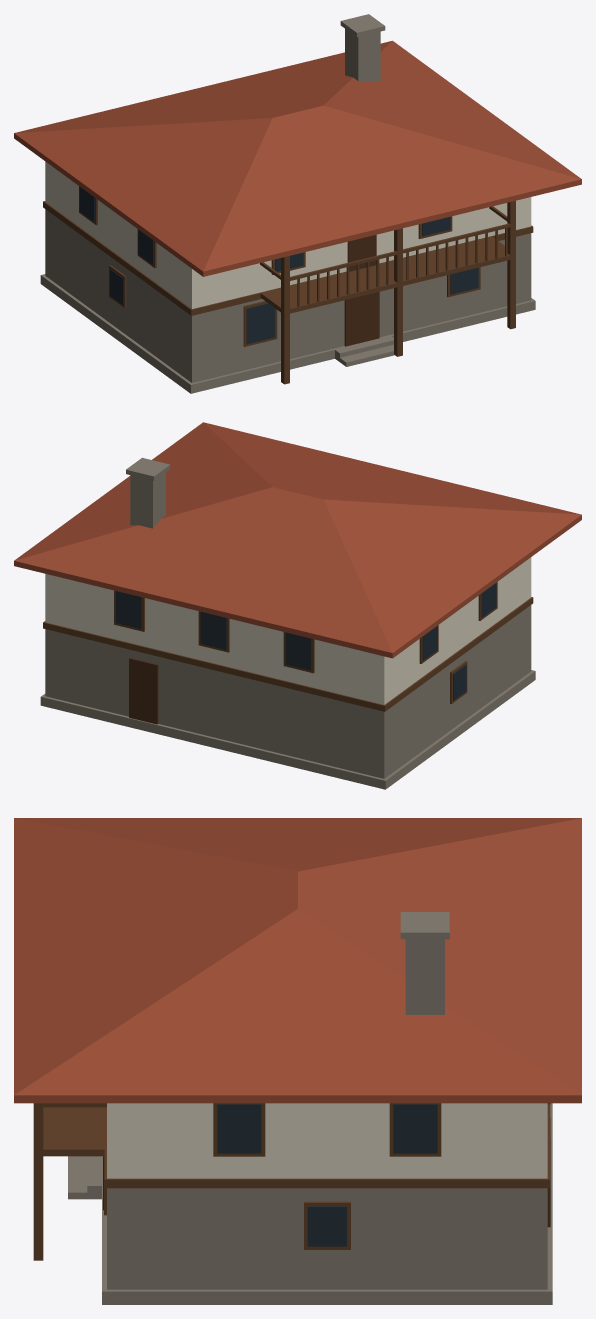
The model's file is dk-house.glb.
3 renders of one model, top to bottom at view 1: azimuth 30°, elevation 25°; view 2: azimuth 150°, elevation 25°; view 3: azimuth 270°, elevation 25°, orthographic. The views are drawn at different scales.
Visible parts, largest first — view 1: Roof, GroundFloor, UpperFloor, BalconyDeck, Plinth, FloorBand, Door, Chimney, BalconyPost0, BalconyRail, BalconyPost1, BalconyPost2 (+6 smaller); view 2: Roof, GroundFloor, UpperFloor, Plinth, FloorBand, BackDoor, Chimney, WinBack0, WinBack1, WinBack2, ChimneyCap; view 3: Roof, GroundFloor, UpperFloor, Plinth, FloorBand, BalconyDeck, Chimney, WinSide10, WinSide11, BalconyPost2, WinSideLow1, ChimneyCap (+5 smaller).
Part boxes in pixels (left/top/right/bottom): Roof: left=14, top=40, right=581, bottom=276; GroundFloor: left=45, top=209, right=531, bottom=382; UpperFloor: left=45, top=161, right=531, bottom=308; BalconyDeck: left=260, top=236, right=515, bottom=314; Plinth: left=40, top=274, right=535, bottom=393; FloorBand: left=43, top=201, right=533, bottom=315; Door: left=344, top=292, right=379, bottom=346; Chimney: left=345, top=29, right=380, bottom=81; BalconyPost0: left=281, top=256, right=289, bottom=384; BalconyRail: left=283, top=223, right=515, bottom=281; BalconyPost1: left=394, top=228, right=402, bottom=356; BalconyPost2: left=507, top=200, right=515, bottom=329; Roof: left=14, top=422, right=581, bottom=658; GroundFloor: left=45, top=605, right=531, bottom=778; UpperFloor: left=45, top=557, right=531, bottom=704; Plinth: left=40, top=670, right=535, bottom=789; FloorBand: left=43, top=597, right=533, bottom=711; BackDoor: left=129, top=658, right=158, bottom=724; Chimney: left=130, top=472, right=165, bottom=528; WinBack0: left=285, top=632, right=311, bottom=670; WinBack1: left=200, top=612, right=226, bottom=649; WinBack2: left=116, top=591, right=141, bottom=629; ChimneyCap: left=126, top=457, right=170, bottom=480; Roof: left=14, top=818, right=581, bottom=1103; GroundFloor: left=107, top=1188, right=547, bottom=1289; UpperFloor: left=107, top=1103, right=547, bottom=1178; Plinth: left=102, top=1103, right=552, bottom=1304; FloorBand: left=104, top=1104, right=550, bottom=1188; BalconyDeck: left=33, top=1107, right=106, bottom=1156; Chimney: left=405, top=939, right=444, bottom=1014; WinSide10: left=217, top=1104, right=261, bottom=1153; WinSide11: left=393, top=1104, right=437, bottom=1153; BalconyPost2: left=33, top=1103, right=43, bottom=1260; WinSideLow1: left=307, top=1206, right=346, bottom=1246; ChimneyCap: left=400, top=912, right=449, bottom=939.
Size of the model in its own units: 13.4 by 7.55 by 11.6.
